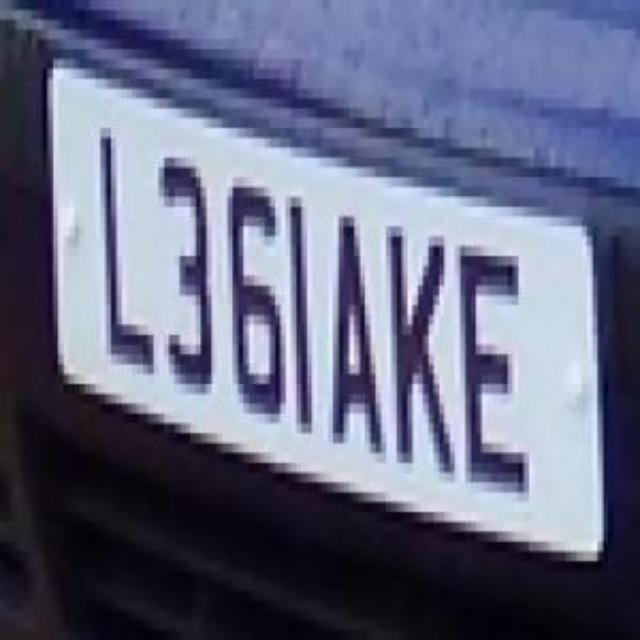License Plate: (36, 30, 622, 580)
